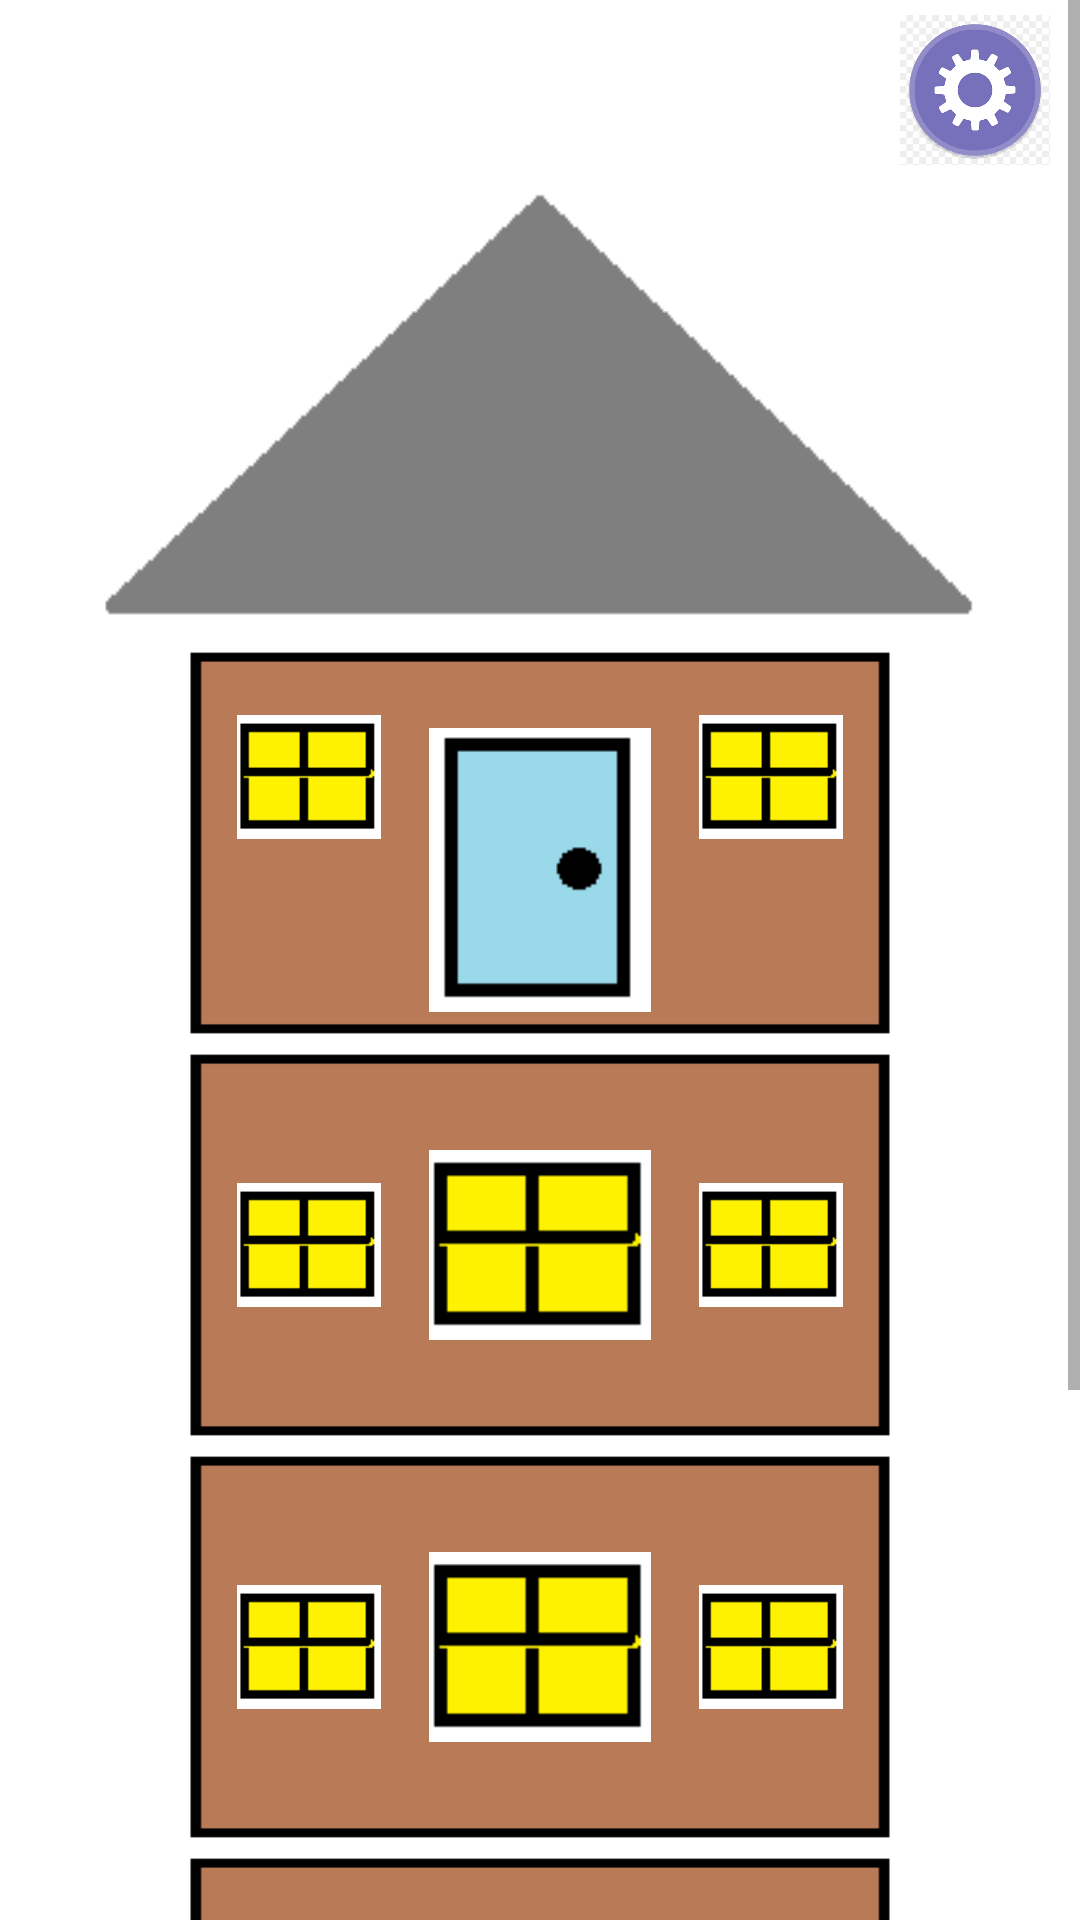

Icons on this 1080 × 1920 Android screen, each with its box as {"left": x1, "top": y1, "right": x2, "bottom": y2}:
door: {"left": 429, "top": 728, "right": 651, "bottom": 1012}
settings: {"left": 908, "top": 24, "right": 1042, "bottom": 159}
